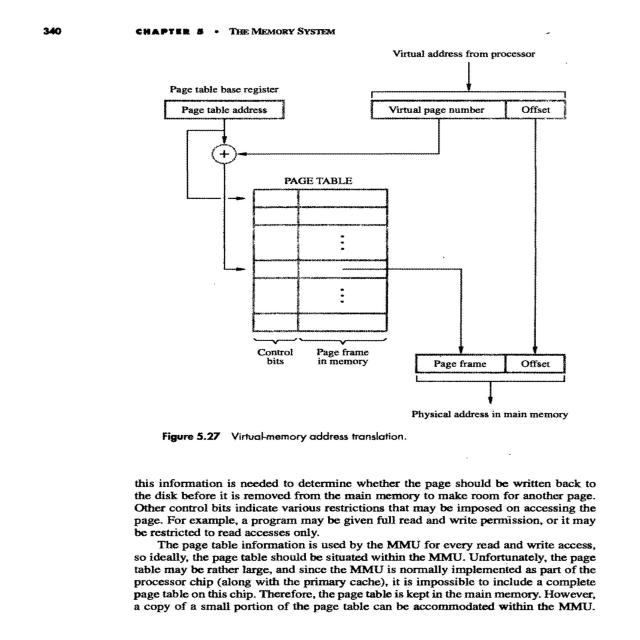diagram: (125, 51, 585, 462), (639, 259, 640, 299), (639, 220, 640, 258)
